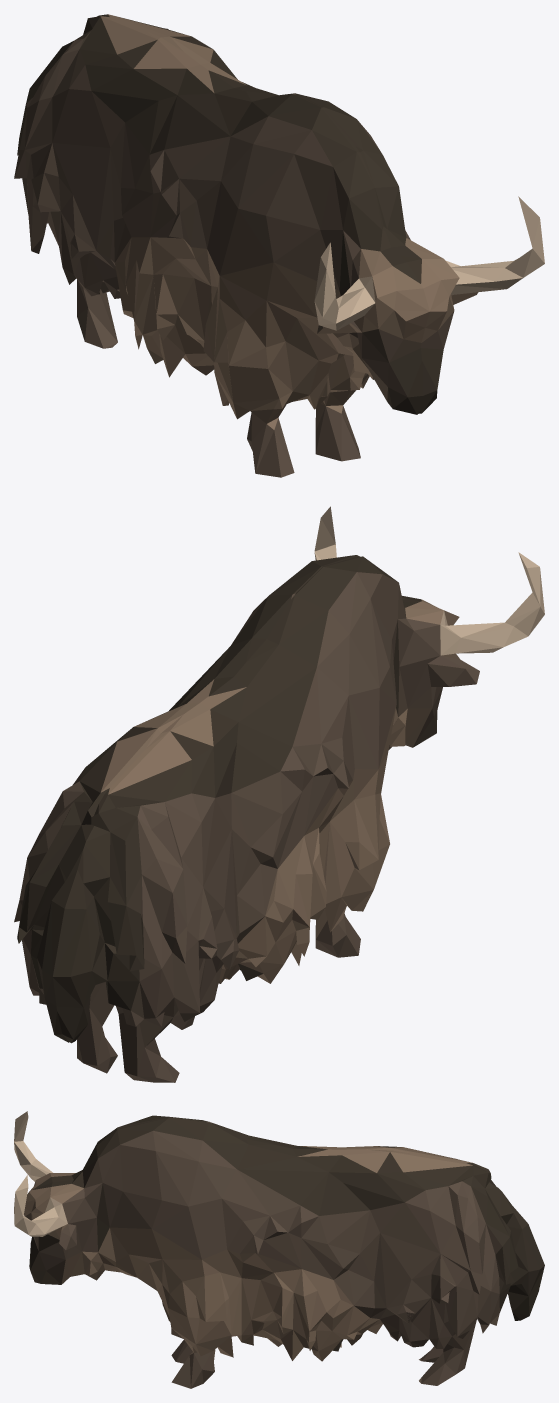
The model's file is Yak.fbx.
3 renders of one model, top to bottom at view 1: azimuth 30°, elevation 25°; view 2: azimuth 150°, elevation 25°; view 3: azimuth 270°, elevation 25°, orthographic. The views are drawn at different scales.
Parts seen in each view (by area): view 1: Бизон; view 2: Бизон; view 3: Бизон.
Boxes of the visible parts, x1,y1,x2,y2 form: Бизон: [14, 14, 544, 477]; Бизон: [14, 506, 544, 1082]; Бизон: [14, 1111, 544, 1388].
Size of the model in its own units: 0.6529 by 1.01 by 1.91.
